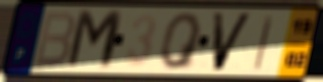3: (125, 12, 160, 69)
B: (32, 10, 77, 69)
I: (252, 13, 276, 72)
M: (64, 8, 126, 72)
Q: (158, 11, 204, 72)
V: (211, 10, 256, 73)
